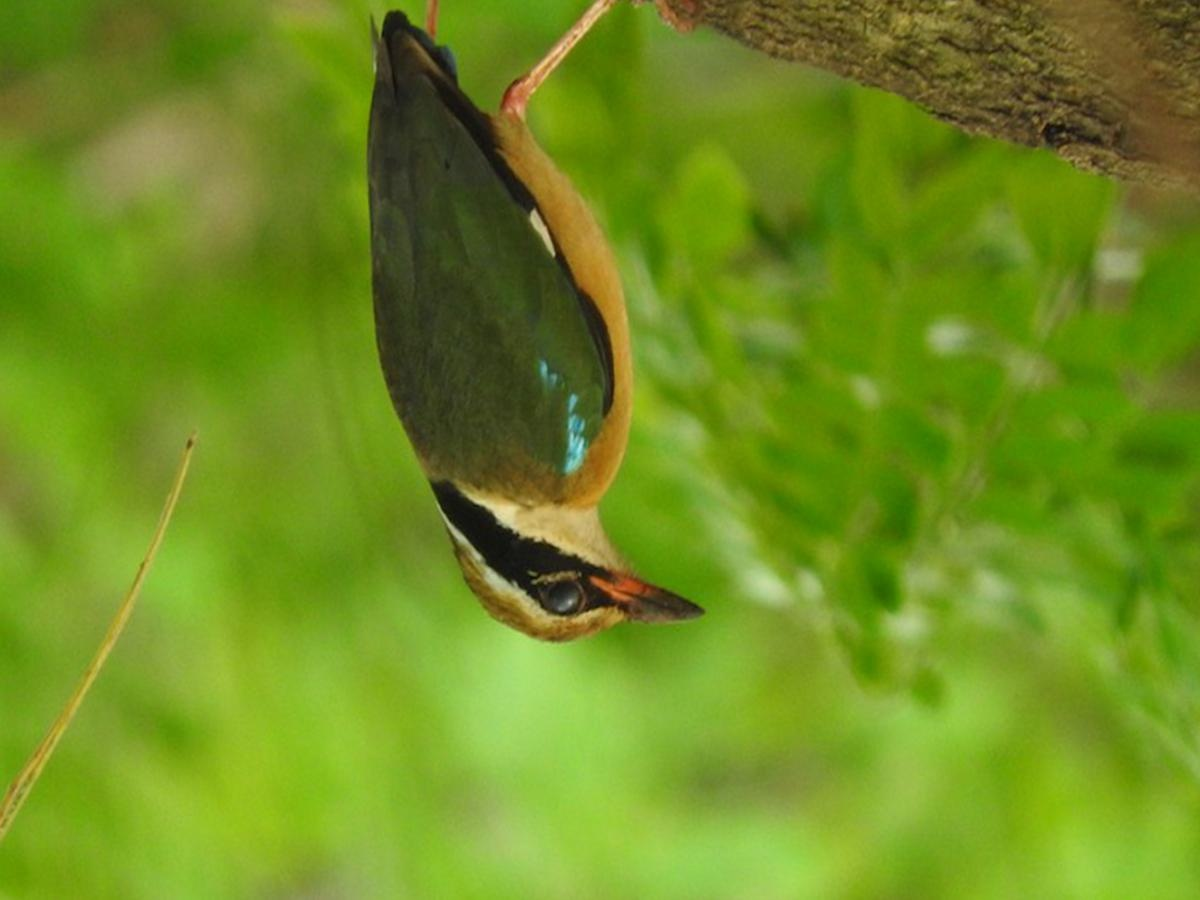pitta: (327, 32, 736, 668)
